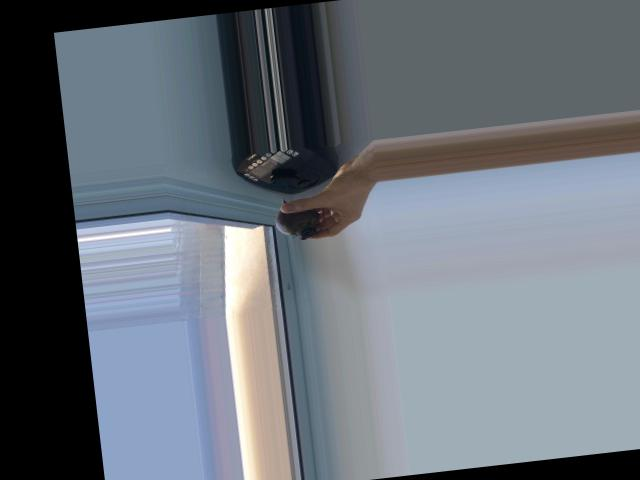beet: (272, 194, 326, 242)
